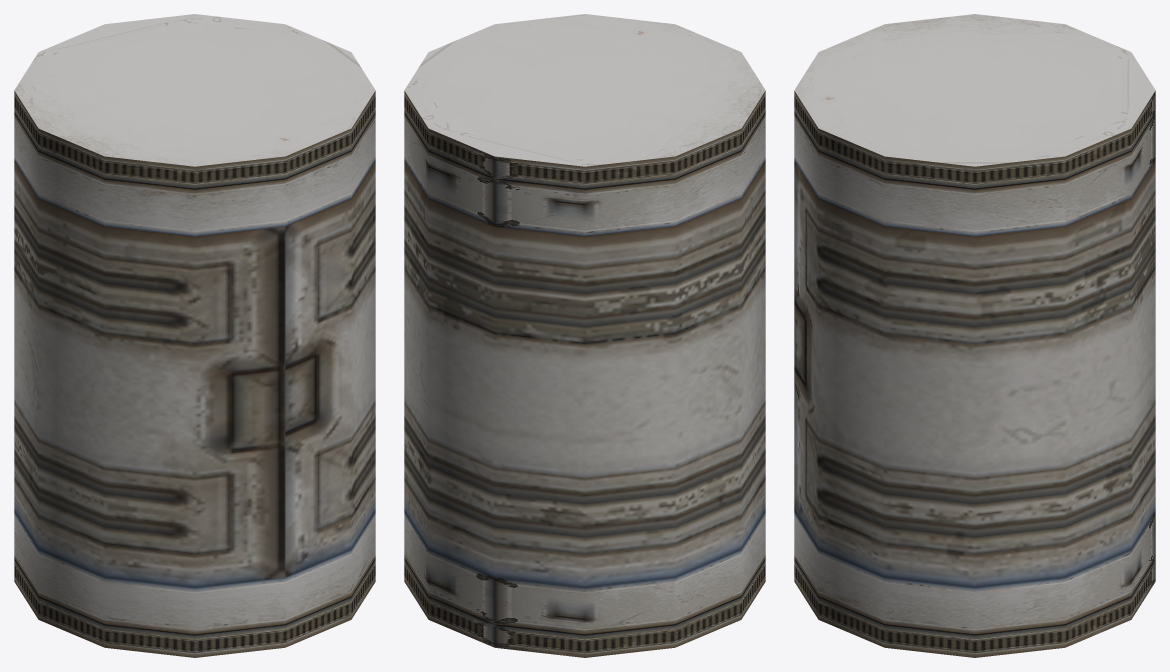
Rendered from scifi_barrel_5.FBX.
3 renders of one model, left to right at view 1: azimuth 30°, elevation 25°; view 2: azimuth 150°, elevation 25°; view 3: azimuth 270°, elevation 25°, orthographic.
Parts seen in each view (by area): view 1: Cylinder006; view 2: Cylinder006; view 3: Cylinder006.
Part boxes in pixels (x1=…): Cylinder006: x1=14, y1=14, x2=375, y2=657; Cylinder006: x1=404, y1=14, x2=765, y2=657; Cylinder006: x1=794, y1=14, x2=1155, y2=657.
Size of the model in its own units: 102 by 152 by 102.
